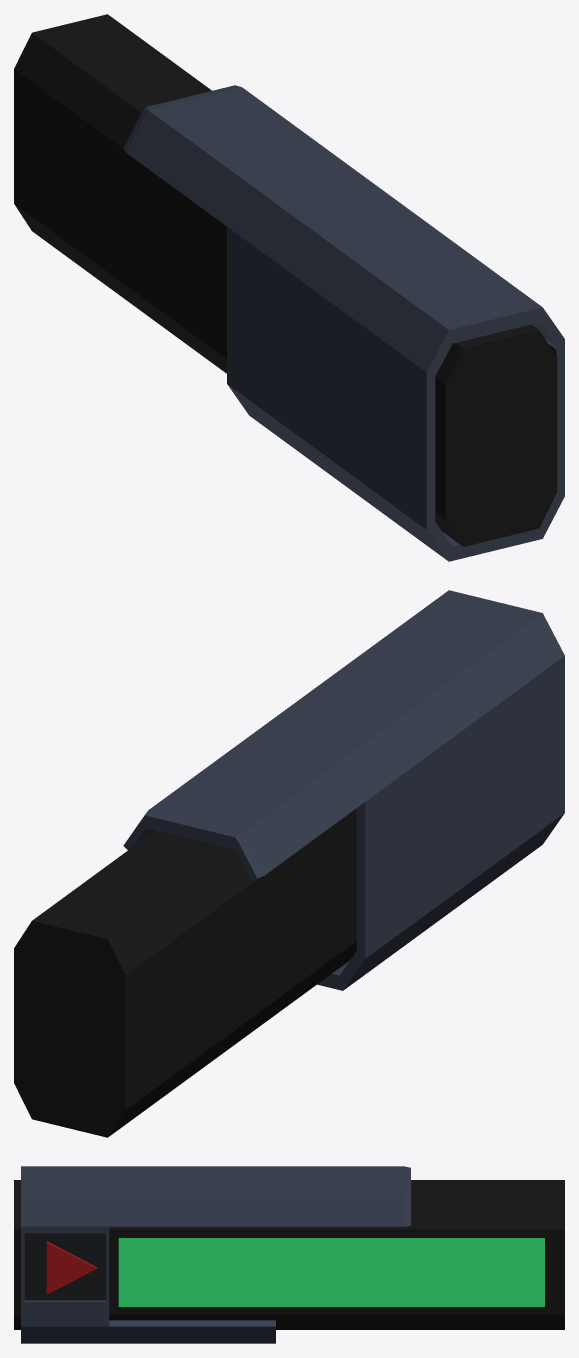
The model's file is Play Button.fbx.
3 renders of one model, top to bottom at view 1: azimuth 30°, elevation 25°; view 2: azimuth 150°, elevation 25°; view 3: azimuth 270°, elevation 25°, orthographic. The views are drawn at different scales.
Parts seen in each view (by area): view 1: Play Button; view 2: Play Button; view 3: Play Button.
Boxes of the visible parts, left/top/right/bottom form: Play Button: left=14, top=14, right=564, bottom=561; Play Button: left=14, top=590, right=564, bottom=1137; Play Button: left=14, top=1166, right=564, bottom=1343.
Bounding box in the file's own units: 30.27 × 48.47 × 164.
